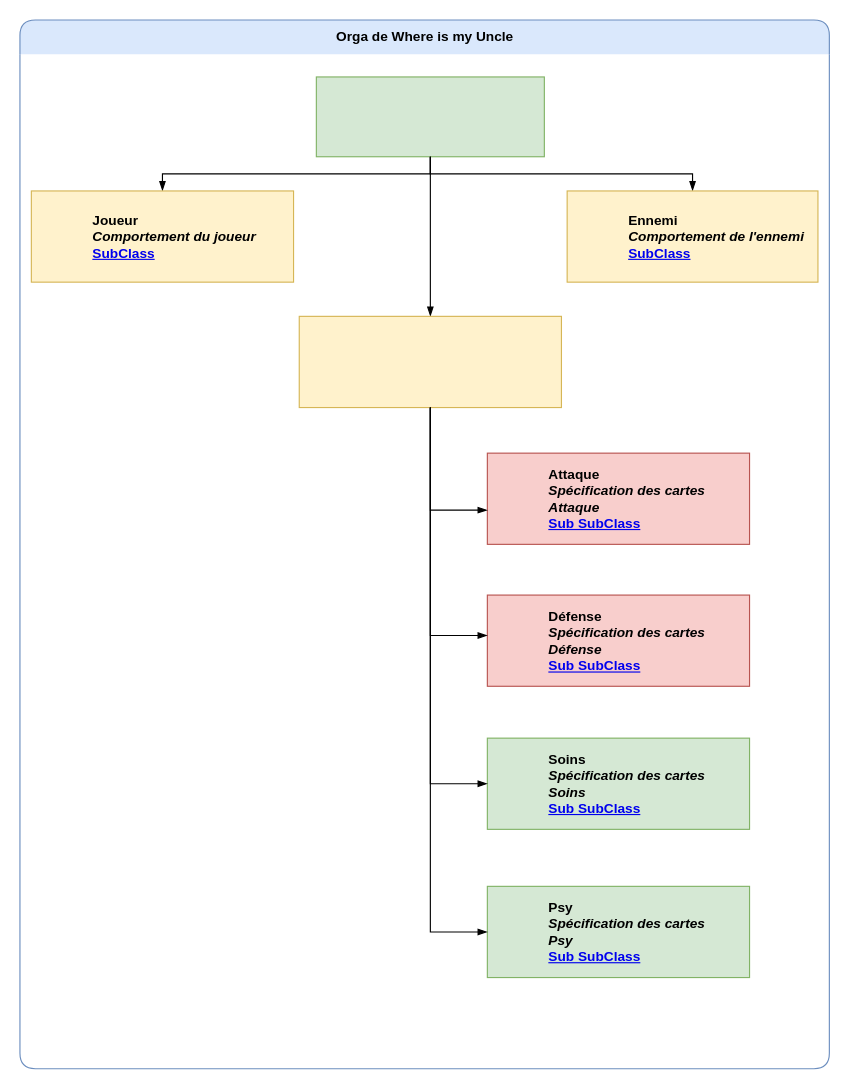
Some shapes in this 849 by 1089 pixel diagram are drawn without their labels. Each missing label, with the box of its shape:
Cartes Comportement global des cartes SubClass: (298, 315, 561, 408)
Program Déroulement du jeu SuperClass: (315, 76, 544, 157)
